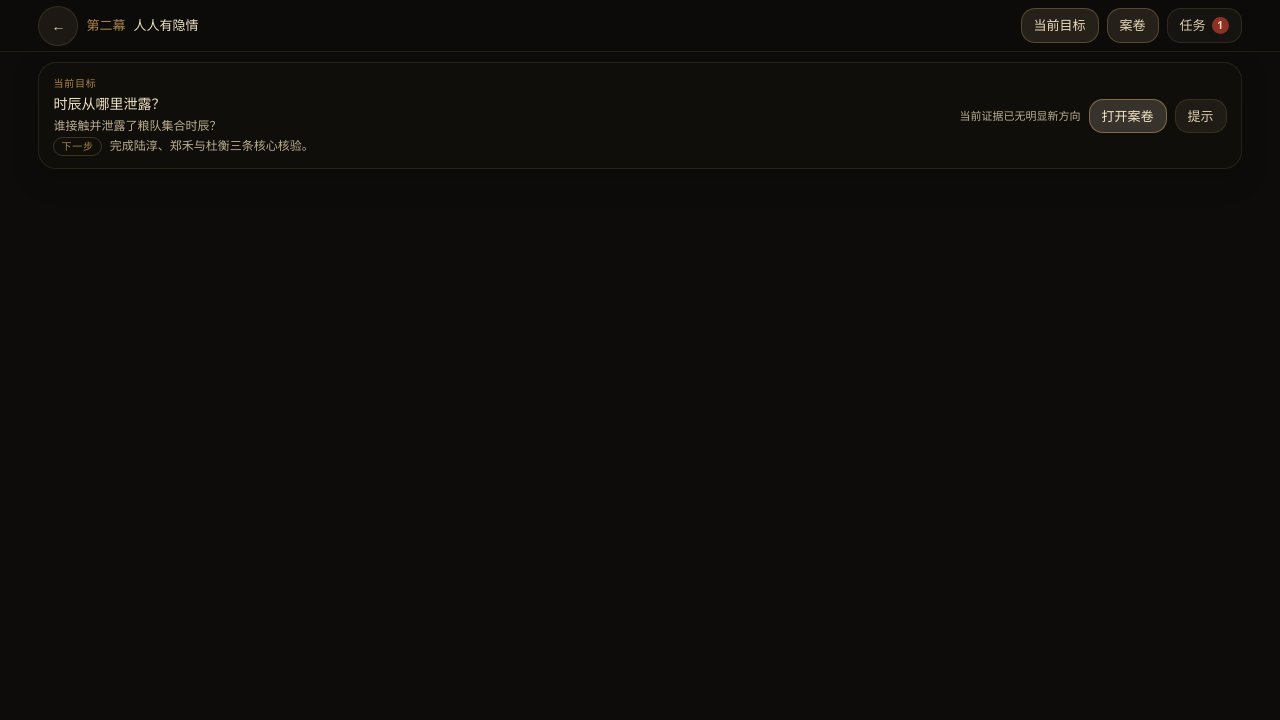
Test: v0.9.5 dossier core-loop navigation › keeps the current objective visible and exposes reverse actions from a person entry
This screenshot has width=1280, height=720.
Expected: the element named "当前查案目标" is shown, [38,62,1242,169]
Expected: the text "当前目标" in the row of "人人有隐情" is shown, [1034,16,1086,34]
Click the button "案卷" at (1133, 26), box [1107,8,1159,43]
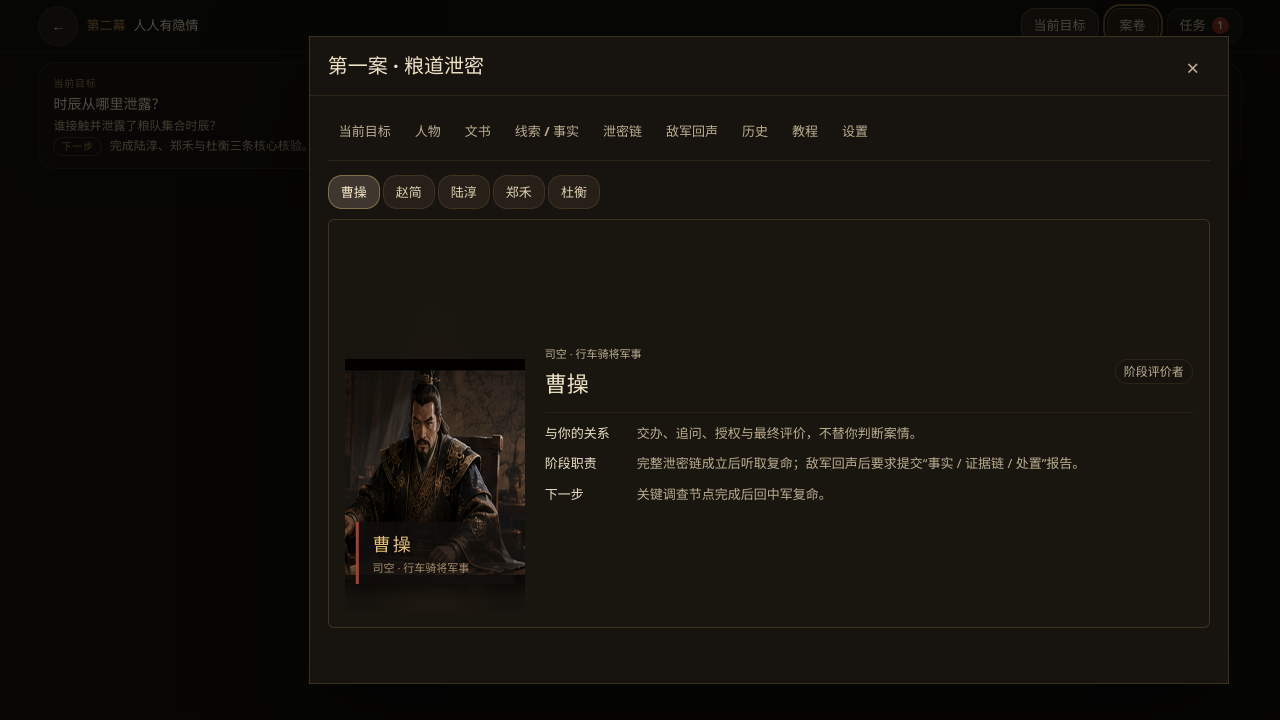
Click the button "赵简" at (409, 192), box [383,175,435,209]
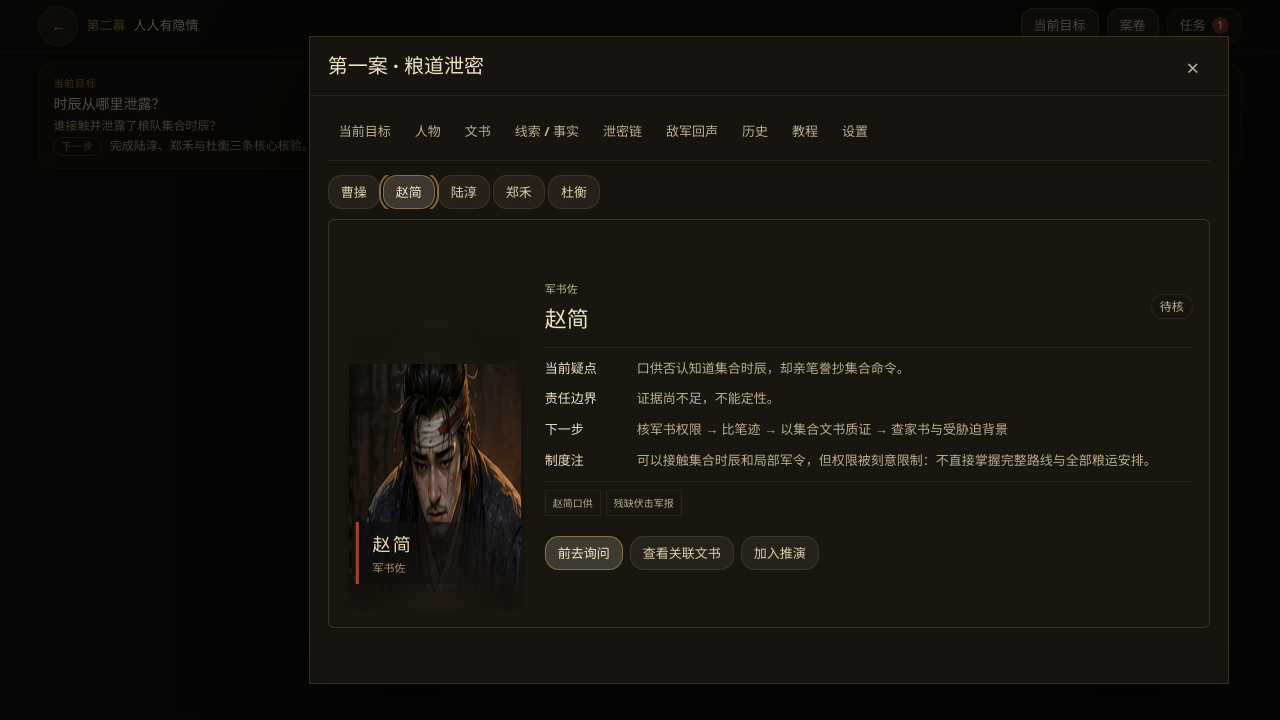
Expected: the button "前去询问" is shown, [545,536,623,570]
Expected: the button "加入推演" is shown, [741,536,819,570]
